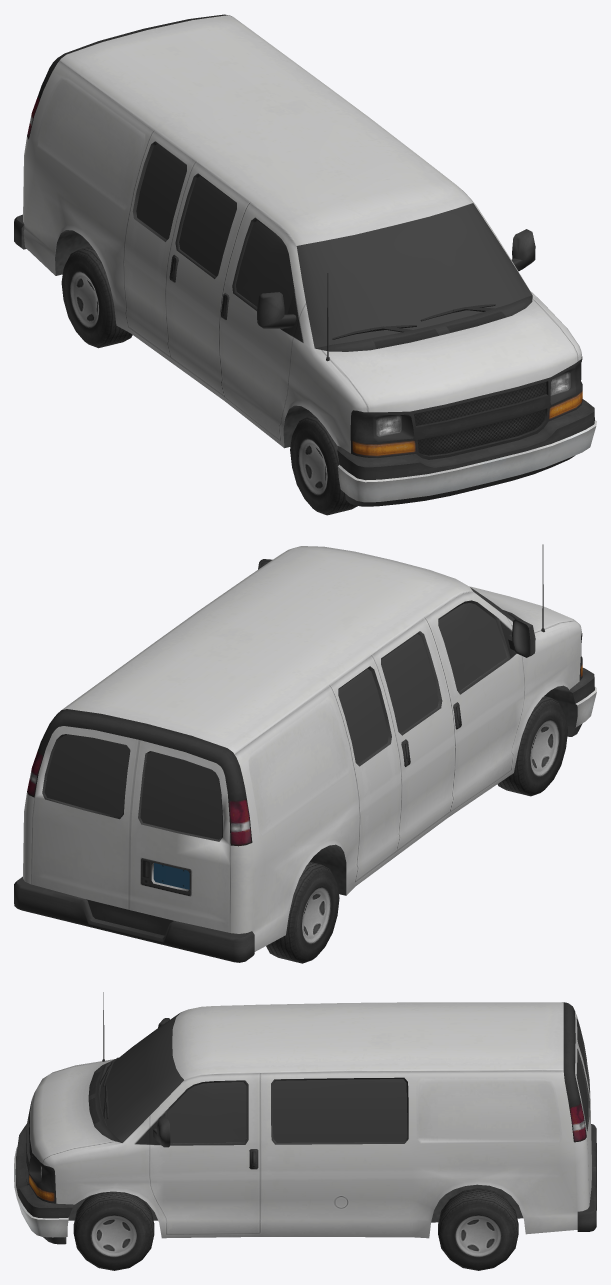
Rendered from van.fbx.
The picture shows the model from 3 angles, top to bottom: view 1: azimuth 30°, elevation 25°; view 2: azimuth 150°, elevation 25°; view 3: azimuth 270°, elevation 25°; orthographic projection. The views are drawn at different scales.
Visible parts, largest first — view 1: body, T_B_R, T_F_R; view 2: body, T_B_R, T_F_R; view 3: body, T_B_L, T_F_L.
Part boxes in pixels (box(x1,y1,x2,y2)): body: box(14, 14, 596, 506); T_B_R: box(61, 246, 132, 348); T_F_R: box(290, 415, 357, 515); body: box(14, 544, 596, 962); T_B_R: box(266, 862, 339, 963); T_F_R: box(497, 696, 567, 796); body: box(14, 992, 596, 1244); T_B_L: box(438, 1188, 518, 1270); T_F_L: box(73, 1191, 154, 1270).
Bounding box in the file's own units: 252 × 216 × 578.
